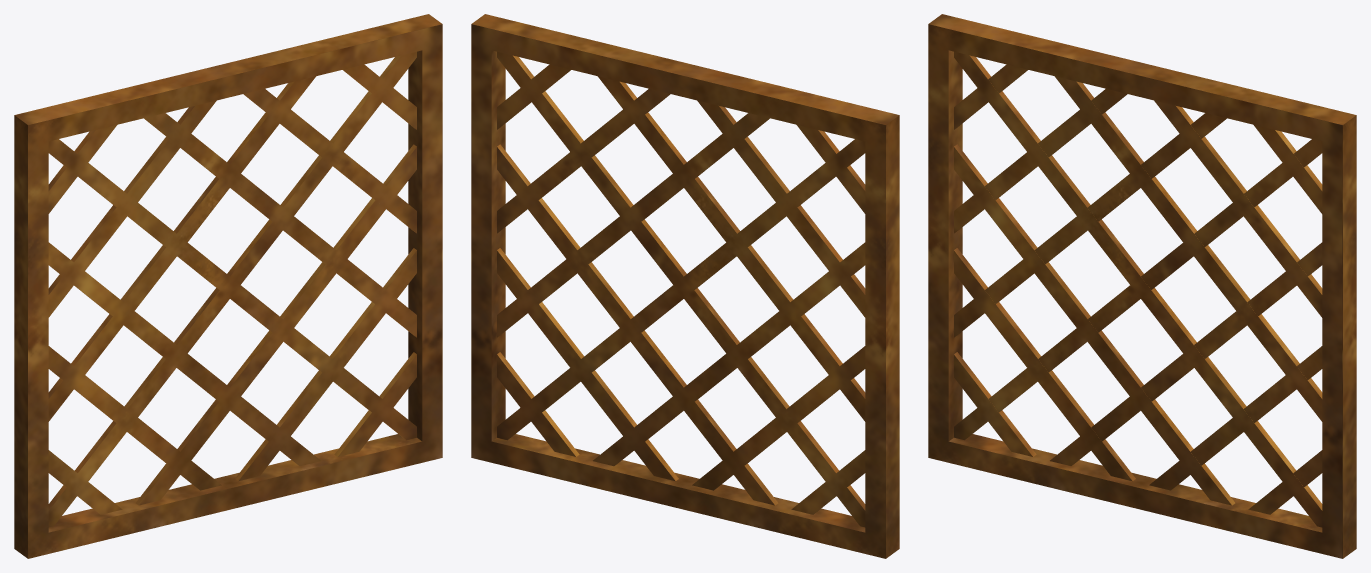
File: SplatoonFence.glb
3 renders of one model, left to right at view 1: azimuth 30°, elevation 25°; view 2: azimuth 150°, elevation 25°; view 3: azimuth 330°, elevation 25°, orthographic.
Parts seen in each view (by area): view 1: Fence_S1_Fence.008; view 2: Fence_S1_Fence.008; view 3: Fence_S1_Fence.008.
Part boxes in pixels (<box>): Fence_S1_Fence.008: <box>14,14,442,558</box>; Fence_S1_Fence.008: <box>471,14,899,558</box>; Fence_S1_Fence.008: <box>928,14,1356,558</box>.
Bounding box in the file's own units: 2 × 2 × 0.1152.
Materials: 1 (1 with a texture image).
